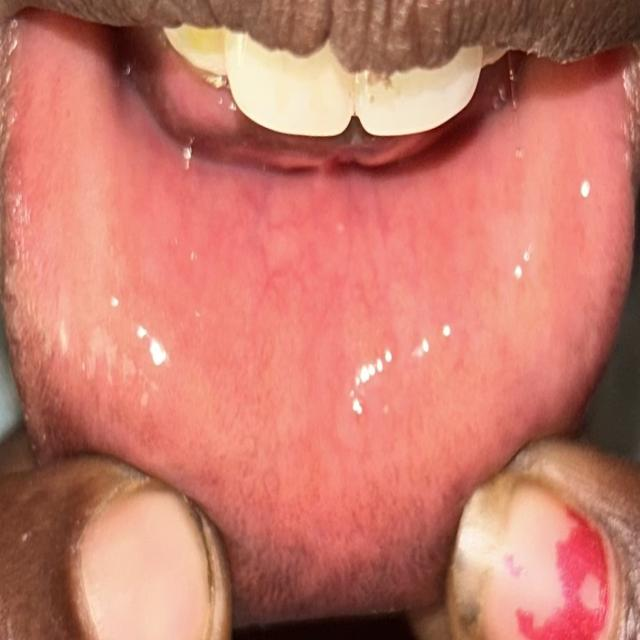processing_area: (0, 15, 638, 620)
